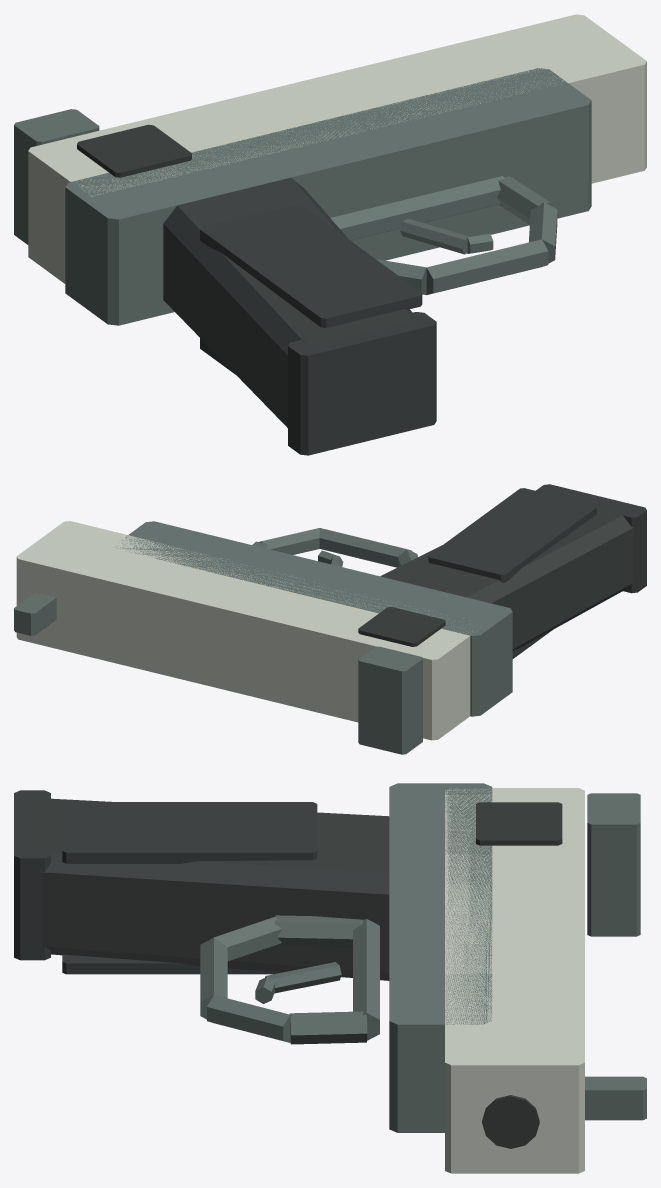
The model's file is weapon-walther-ppks.glb.
3 views of the same model, one above another, from view 1: azimuth 30°, elevation 25°; view 2: azimuth 150°, elevation 25°; view 3: azimuth 270°, elevation 25° (orthographic). The views are drawn at different scales.
Visible parts, largest first — view 1: weapon-walther-ppks/lower-frame, weapon-walther-ppks/flat-slide, weapon-walther-ppks/eight-sided-grip, weapon-walther-ppks/eight-sided-grip-heel, weapon-walther-ppks/independent-grip-panels-left, weapon-walther-ppks/hollow-trigger-guard-1, weapon-walther-ppks/slide-rear-serrations-left, weapon-walther-ppks/rear-sight, weapon-walther-ppks/hollow-trigger-guard-4, weapon-walther-ppks/hollow-trigger-guard-2, weapon-walther-ppks/hollow-trigger-guard-trigger-1, weapon-walther-ppks/hollow-trigger-guard-3 (+1 smaller); view 2: weapon-walther-ppks/flat-slide, weapon-walther-ppks/lower-frame, weapon-walther-ppks/eight-sided-grip, weapon-walther-ppks/independent-grip-panels-left, weapon-walther-ppks/rear-sight, weapon-walther-ppks/slide-rear-serrations-left, weapon-walther-ppks/eight-sided-grip-heel, weapon-walther-ppks/hollow-trigger-guard-4, weapon-walther-ppks/front-sight, weapon-walther-ppks/hollow-trigger-guard-3; view 3: weapon-walther-ppks/flat-slide, weapon-walther-ppks/eight-sided-grip, weapon-walther-ppks/lower-frame, weapon-walther-ppks/independent-grip-panels-left, weapon-walther-ppks/rear-sight, weapon-walther-ppks/eight-sided-grip-heel, weapon-walther-ppks/slide-rear-serrations-left, weapon-walther-ppks/front-sight, weapon-walther-ppks/hollow-trigger-guard-1, weapon-walther-ppks/hollow-trigger-guard-2, weapon-walther-ppks/hollow-trigger-guard-6, weapon-walther-ppks/muzzle-dark-disc (+5 smaller).
Boxes of the visible parts, left/top/right/bottom form: weapon-walther-ppks/lower-frame: left=65, top=68, right=591, bottom=325; weapon-walther-ppks/flat-slide: left=28, top=14, right=646, bottom=283; weapon-walther-ppks/eight-sided-grip: left=163, top=178, right=415, bottom=427; weapon-walther-ppks/eight-sided-grip-heel: left=288, top=312, right=436, bottom=455; weapon-walther-ppks/independent-grip-panels-left: left=200, top=204, right=422, bottom=327; weapon-walther-ppks/hollow-trigger-guard-1: left=330, top=176, right=504, bottom=240; weapon-walther-ppks/slide-rear-serrations-left: left=77, top=124, right=191, bottom=177; weapon-walther-ppks/rear-sight: left=14, top=109, right=99, bottom=244; weapon-walther-ppks/hollow-trigger-guard-4: left=426, top=239, right=548, bottom=294; weapon-walther-ppks/hollow-trigger-guard-2: left=497, top=176, right=552, bottom=224; weapon-walther-ppks/hollow-trigger-guard-trigger-1: left=400, top=218, right=469, bottom=254; weapon-walther-ppks/hollow-trigger-guard-3: left=529, top=202, right=557, bottom=263; weapon-walther-ppks/flat-slide: left=16, top=521, right=472, bottom=740; weapon-walther-ppks/lower-frame: left=116, top=521, right=512, bottom=716; weapon-walther-ppks/eight-sided-grip: left=380, top=491, right=633, bottom=650; weapon-walther-ppks/independent-grip-panels-left: left=428, top=488, right=596, bottom=582; weapon-walther-ppks/rear-sight: left=358, top=646, right=422, bottom=754; weapon-walther-ppks/slide-rear-serrations-left: left=358, top=607, right=445, bottom=646; weapon-walther-ppks/eight-sided-grip-heel: left=536, top=484, right=646, bottom=593; weapon-walther-ppks/hollow-trigger-guard-4: left=319, top=528, right=411, bottom=567; weapon-walther-ppks/front-sight: left=14, top=592, right=56, bottom=635; weapon-walther-ppks/hollow-trigger-guard-3: left=259, top=528, right=319, bottom=554; weapon-walther-ppks/flat-slide: left=445, top=788, right=584, bottom=1173; weapon-walther-ppks/eight-sided-grip: left=32, top=797, right=389, bottom=980; weapon-walther-ppks/lower-frame: left=389, top=783, right=492, bottom=1132; weapon-walther-ppks/independent-grip-panels-left: left=62, top=802, right=317, bottom=863; weapon-walther-ppks/rear-sight: left=587, top=793, right=640, bottom=936; weapon-walther-ppks/eight-sided-grip-heel: left=14, top=790, right=50, bottom=960; weapon-walther-ppks/slide-rear-serrations-left: left=476, top=802, right=562, bottom=845; weapon-walther-ppks/front-sight: left=585, top=1076, right=646, bottom=1120; weapon-walther-ppks/hollow-trigger-guard-1: left=353, top=918, right=379, bottom=1040; weapon-walther-ppks/hollow-trigger-guard-2: left=289, top=1011, right=367, bottom=1044; weapon-walther-ppks/hollow-trigger-guard-6: left=274, top=915, right=363, bottom=948; weapon-walther-ppks/muzzle-dark-disc: left=482, top=1095, right=539, bottom=1148.
Bounding box in the file's own units: 0.1637 × 0.0326 × 0.1535.
Materials: 3 (3 with a texture image).
